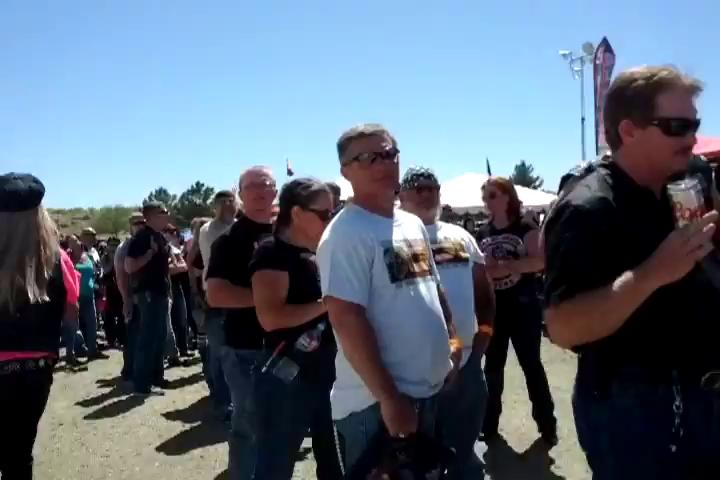victim: (538, 64, 718, 480), (314, 121, 454, 479), (398, 163, 500, 480), (246, 175, 346, 480), (204, 163, 292, 480), (461, 175, 562, 446), (0, 168, 70, 480), (190, 186, 242, 421), (122, 201, 172, 397), (61, 230, 109, 366), (109, 204, 142, 382), (76, 216, 115, 352)
